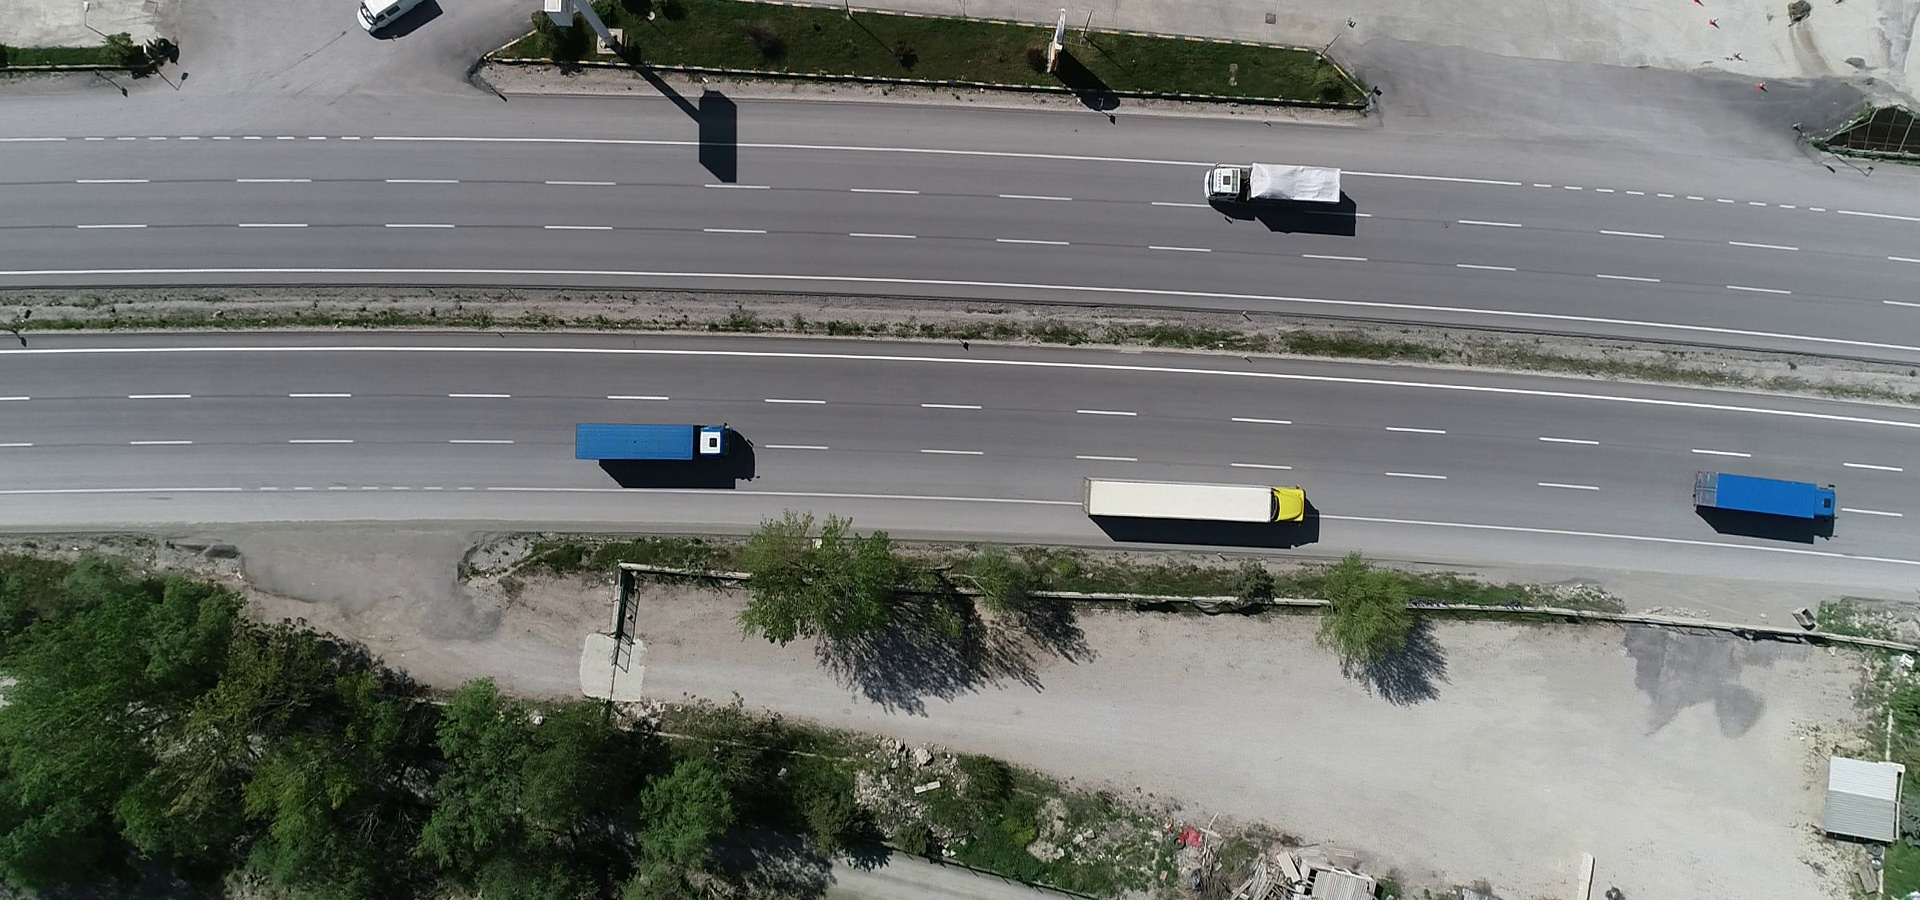arac: (1075, 476, 1319, 531), (1687, 467, 1853, 528), (562, 411, 742, 467), (1198, 153, 1346, 217), (340, 1, 442, 42)
